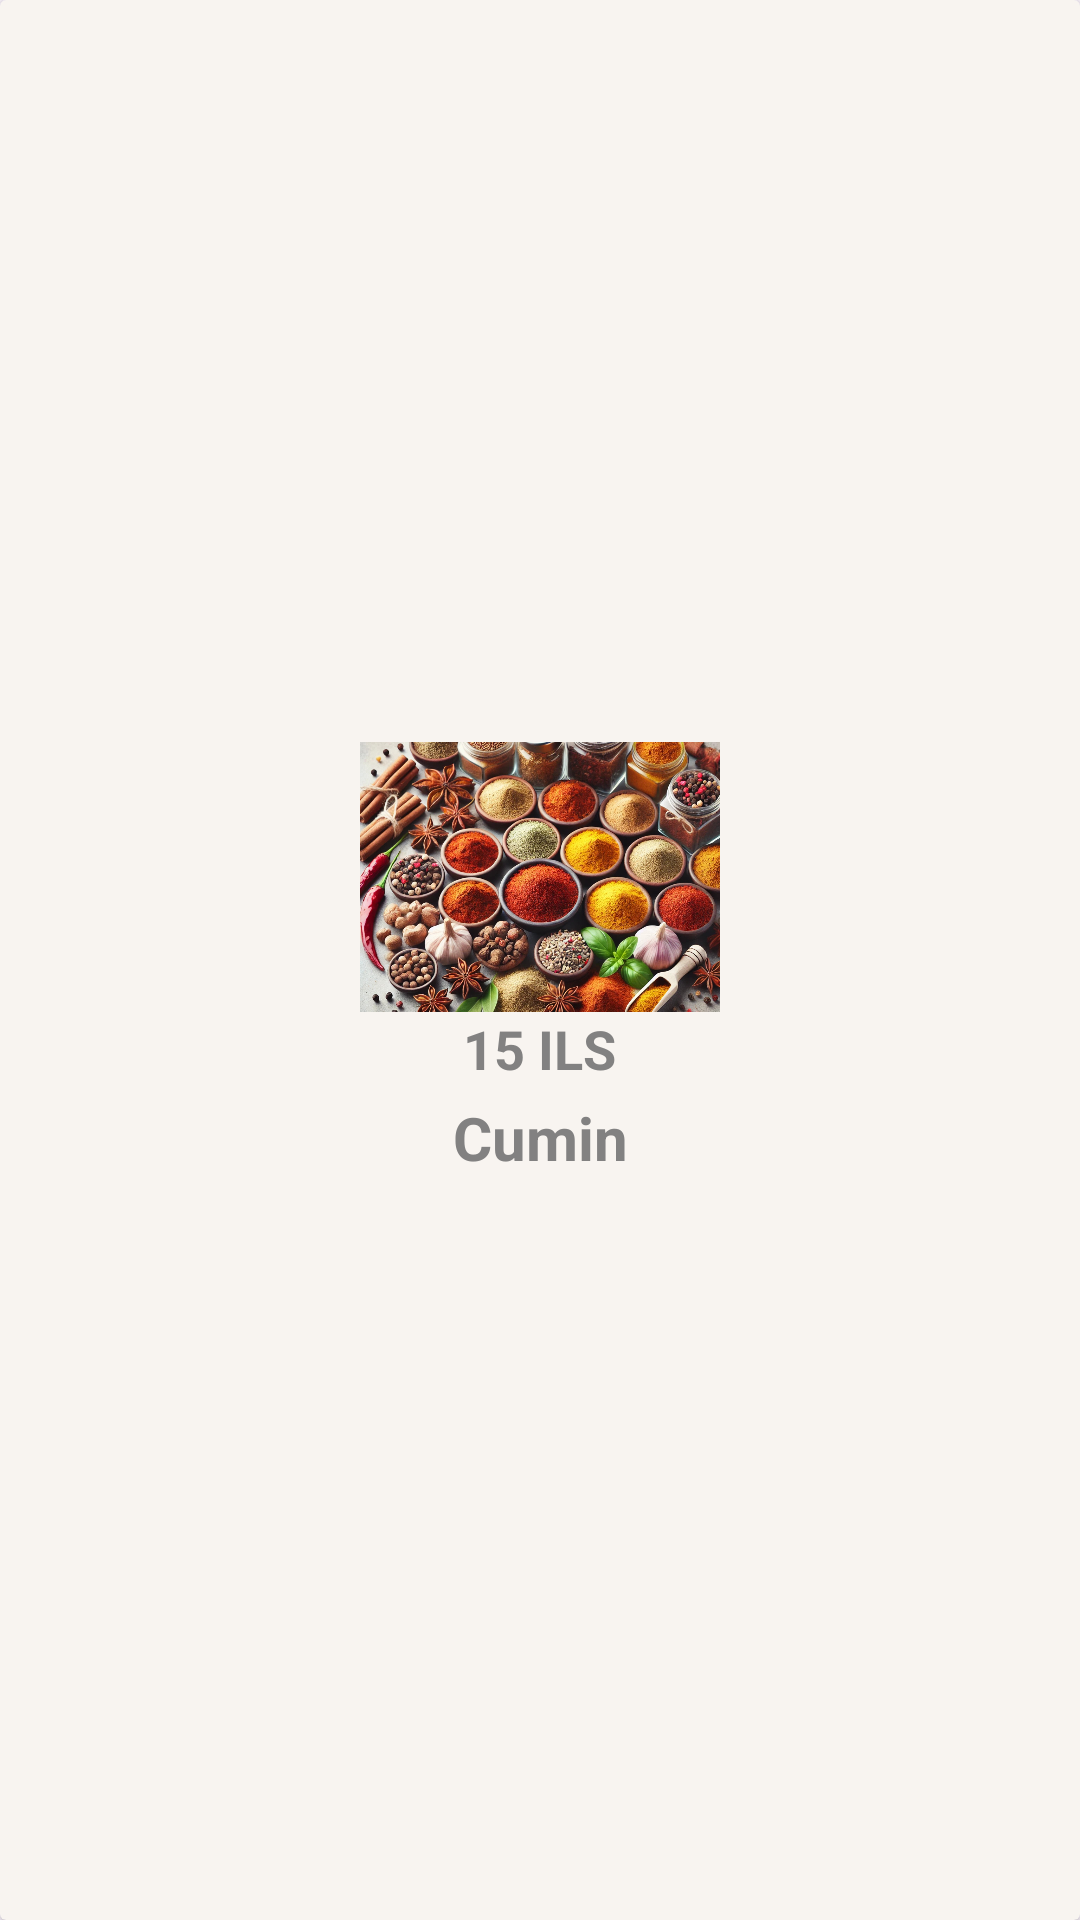

Locate icon controls on the screen. Image size 1080w x 1920h, boxes as {"x1": x1, "y1": y1, "x2": x2, "y2": y2}.
spices: {"x1": 360, "y1": 742, "x2": 720, "y2": 1012}
